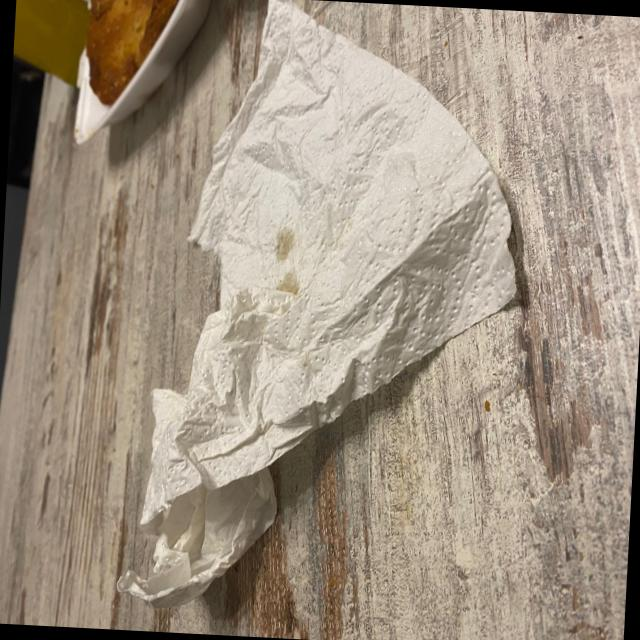organic waste: (119, 0, 532, 627)
